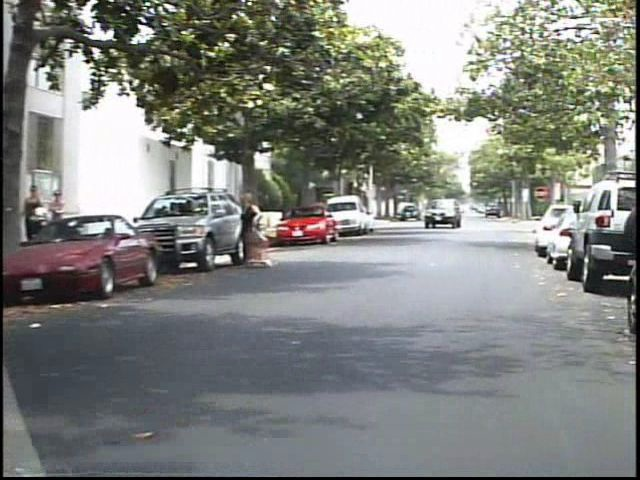person: (244, 190, 278, 275), (31, 183, 59, 256), (60, 184, 85, 250)
